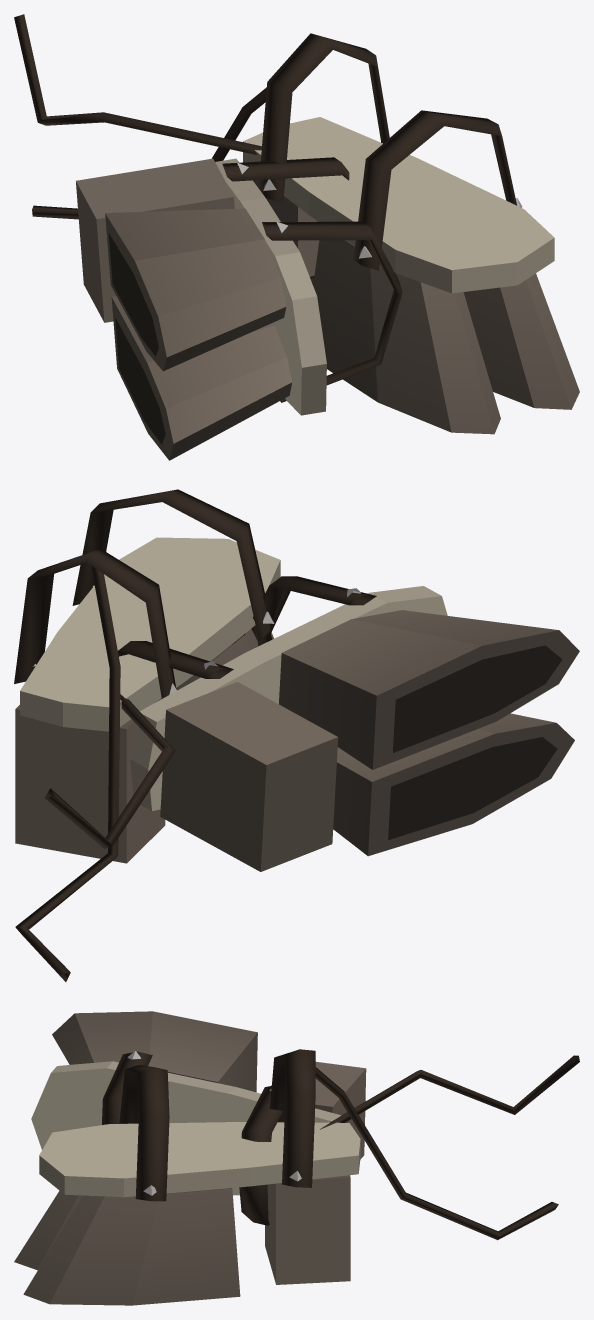
The model's file is prop_hoof_soles.glb.
3 views of the same model, one above another, from view 1: azimuth 30°, elevation 25°; view 2: azimuth 150°, elevation 25°; view 3: azimuth 270°, elevation 25° (orthographic). The views are drawn at different scales.
Parts seen in each view (by area): view 1: HoofSoles, HoofSolesSoft; view 2: HoofSoles, HoofSolesSoft; view 3: HoofSoles, HoofSolesSoft.
Part boxes in pixels (bbox=[...]): HoofSoles: bbox=[76, 117, 579, 460]; HoofSolesSoft: bbox=[14, 14, 516, 402]; HoofSoles: bbox=[15, 537, 579, 871]; HoofSolesSoft: bbox=[14, 489, 376, 981]; HoofSoles: bbox=[14, 1011, 366, 1305]; HoofSolesSoft: bbox=[102, 1049, 579, 1240].
Bounding box in the file's own units: 0.3003 × 0.1845 × 0.4372.
